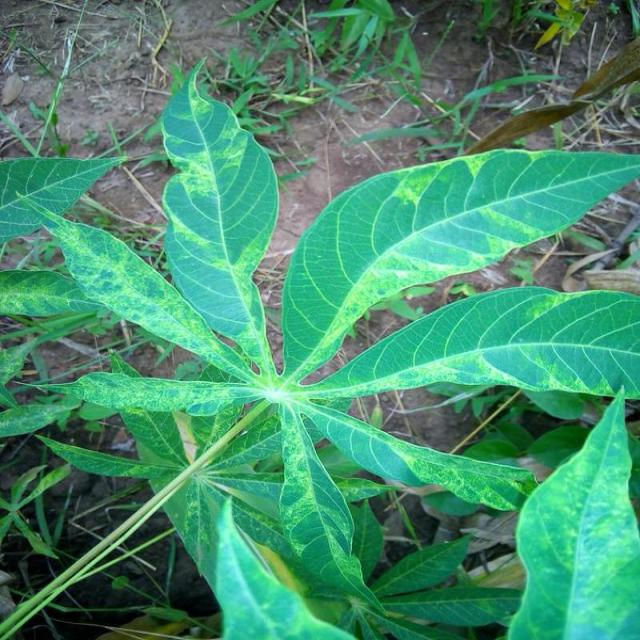cassava leaf: (2, 58, 640, 636), (281, 145, 640, 386), (160, 56, 281, 374), (507, 384, 640, 638)
